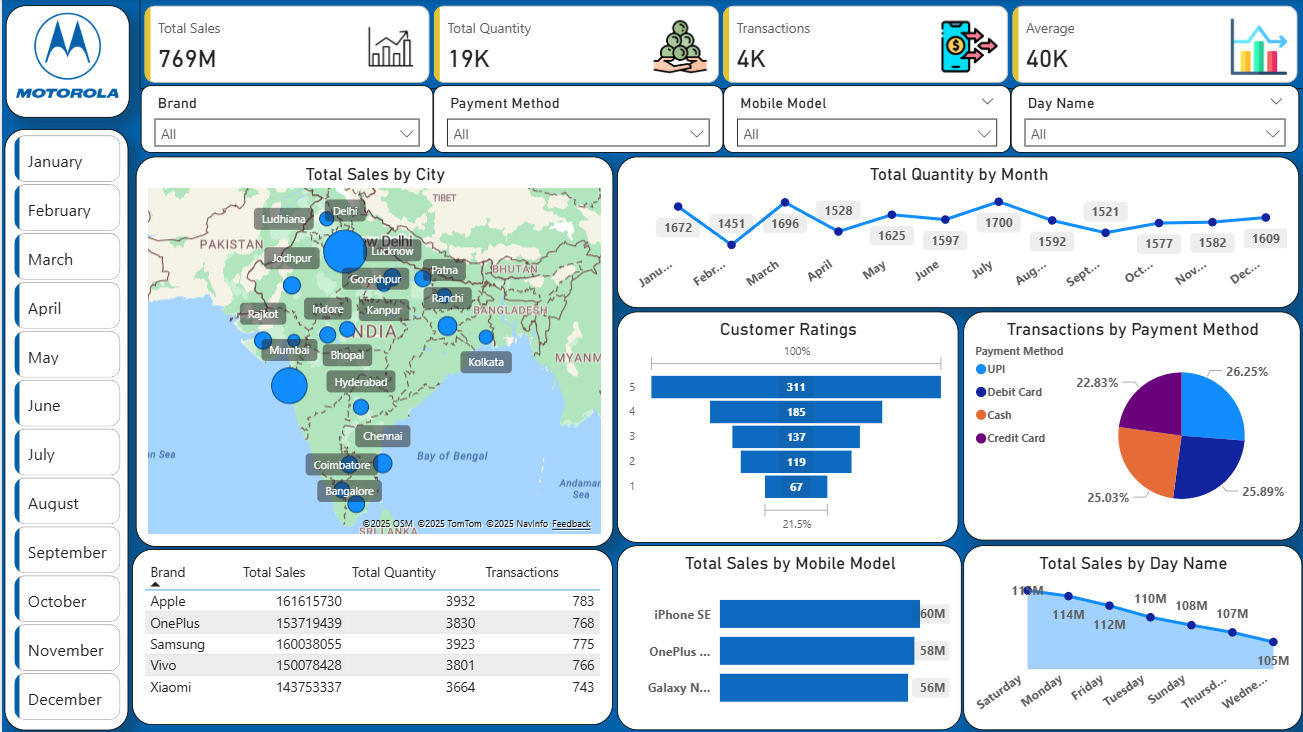

What the dashboard file says about the page in this screenshot:
{"tool":"powerbi","page":{"name":"Page 1","canvas":[1280,720],"ordinal":0},"visuals":[{"type":"shape","box":[3.7,6.1,121.5,110.4],"z":0},{"type":"image","box":[7.4,0,112.9,110.4],"z":1000},{"type":"shape","box":[2.5,127.6,121.5,590.2],"z":2000},{"type":"advancedSlicerVisual","fields":{"Values":["Sales Data.Date.Variation.Date Hierarchy.Month"]},"box":[7.4,128.6,114.1,591.4],"z":3000},{"type":"cardVisual","fields":{"Data":["Sales Data.Total Sales","Sales Data.Total Quantity","Sales Data.Transactions","Sales Data.Average"]},"box":[135,0,1144.8,88.3],"z":4000},{"type":"azureMap","fields":{"Category":["Sales Data.City"],"Size":["Sales Data.Total Sales"]},"box":[131.3,154.6,468.7,382.8],"z":5000},{"type":"lineChart","fields":{"Y":["Sales Data.Total Quantity"],"Category":["Sales Data.Date.Variation.Date Hierarchy.Month","Sales Data.Date.Variation.Date Hierarchy.Day"]},"box":[603.7,154.6,669.9,148.5],"z":6000},{"type":"clusteredBarChart","fields":{"Category":["Sales Data.Mobile Model"],"Y":["Sales Data.Total Sales"]},"box":[603.7,536.2,338.7,181.6],"z":7000},{"type":"pieChart","fields":{"Category":["Sales Data.Payment Method"],"Y":["Sales Data.Transactions"]},"box":[943.6,306.8,331.3,224.5],"z":8000},{"type":"funnel","title":"Customer Ratings","fields":{"Category":["Sales Data.Customer Ratings"],"Y":["CountNonNull(Sales Data.Customer Ratings)"]},"box":[603.7,306.8,335,227],"z":9000},{"type":"areaChart","fields":{"Category":["Sales Data.Day Name"],"Y":["Sales Data.Total Sales"]},"box":[943.6,536.2,332.5,181.6],"z":10000},{"type":"tableEx","fields":{"Values":["Sales Data.Brand","Sales Data.Total Sales","Sales Data.Total Quantity","Sales Data.Transactions"]},"box":[127.6,539.9,472.4,173],"z":11000},{"type":"slicer","fields":{"Values":["Sales Data.Brand"]},"box":[136.2,84.7,287.1,66.3],"z":12000},{"type":"slicer","fields":{"Values":["Sales Data.Payment Method"]},"box":[423.3,84.7,284.7,66.3],"z":13000},{"type":"slicer","fields":{"Values":["Sales Data.Mobile Model"]},"box":[708,84.7,282.2,66.3],"z":14000},{"type":"slicer","fields":{"Values":["Sales Data.Day Name"]},"box":[990.2,84.7,283.4,66.3],"z":15000}]}

Visuals, with their boxes in screenshot pixels (x1, y1, x2, y2), scaled from the page's 1280x720 canvas onto the 1303x732 screenshot:
shape: <box>4,6,127,118</box>
image: <box>8,0,122,112</box>
shape: <box>3,130,126,730</box>
advancedSlicerVisual - Sales Data.Date.Variation.Date Hierarchy.Month: <box>8,131,124,731</box>
cardVisual - Sales Data.Total Sales x Sales Data.Total Quantity: <box>137,0,1302,90</box>
azureMap - Sales Data.City x Sales Data.Total Sales: <box>134,157,611,546</box>
lineChart - Sales Data.Total Quantity x Sales Data.Date.Variation.Date Hierarchy.Month: <box>615,157,1296,308</box>
clusteredBarChart - Sales Data.Mobile Model x Sales Data.Total Sales: <box>615,545,959,730</box>
pieChart - Sales Data.Payment Method x Sales Data.Transactions: <box>961,312,1298,540</box>
"Customer Ratings" funnel: <box>615,312,956,543</box>
areaChart - Sales Data.Day Name x Sales Data.Total Sales: <box>961,545,1299,730</box>
tableEx - Sales Data.Brand x Sales Data.Total Sales: <box>130,549,611,725</box>
slicer - Sales Data.Brand: <box>139,86,431,154</box>
slicer - Sales Data.Payment Method: <box>431,86,721,154</box>
slicer - Sales Data.Mobile Model: <box>721,86,1008,154</box>
slicer - Sales Data.Day Name: <box>1008,86,1296,154</box>
